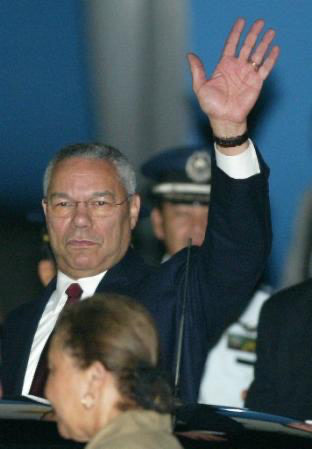Face: (45, 164, 136, 277), (39, 326, 93, 435), (158, 190, 218, 262)
